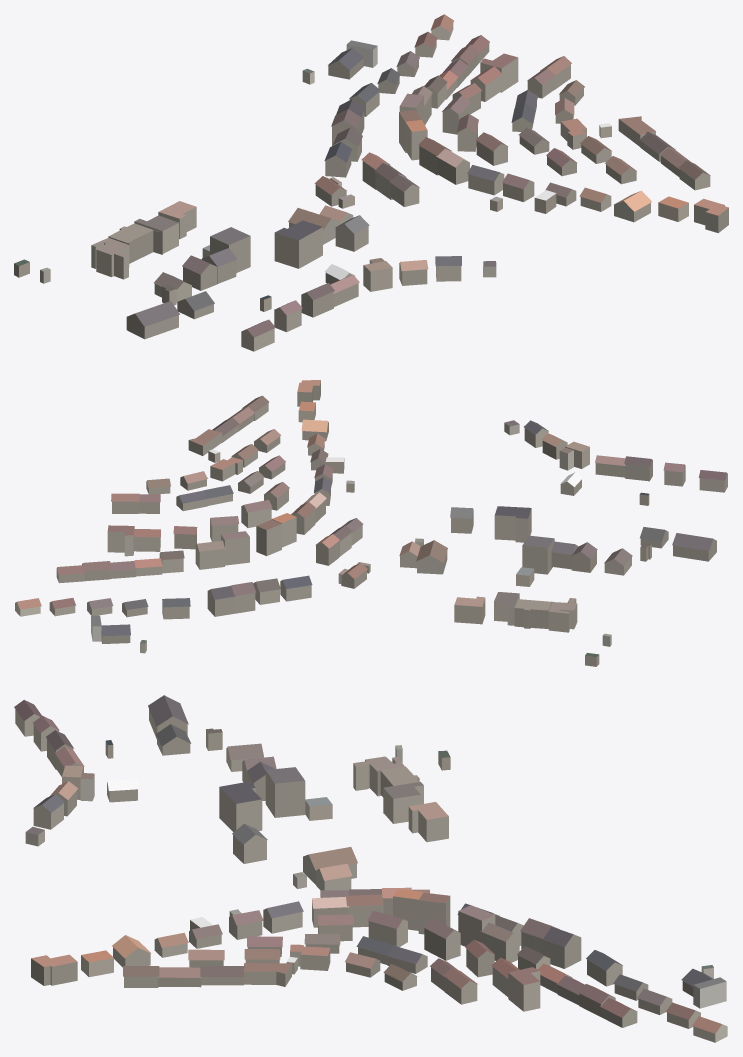
3 views of the same model, one above another, from view 1: azimuth 30°, elevation 25°; view 2: azimuth 150°, elevation 25°; view 3: azimuth 270°, elevation 25° (orthographic). The views are drawn at different scales.
Visible parts, largest first — view 1: tuile; view 2: tuile; view 3: tuile.
Boxes of the visible parts, x1,y1,x2,y2 form: tuile: [14, 14, 728, 351]; tuile: [15, 380, 727, 666]; tuile: [14, 695, 727, 1042].
Size of the model in its own units: 258 by 38.83 by 254.
